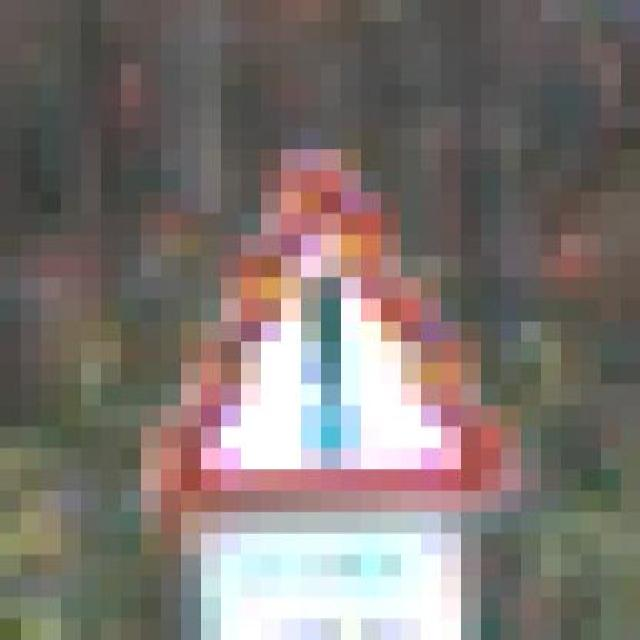Attention Please-: (100, 85, 520, 533)
